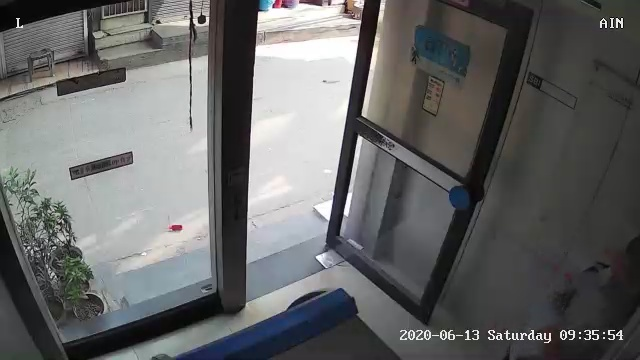open: (199, 4, 538, 332)
